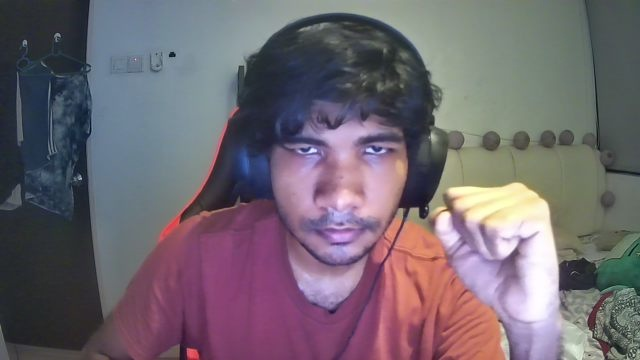Goodbye: (427, 179, 568, 328)
